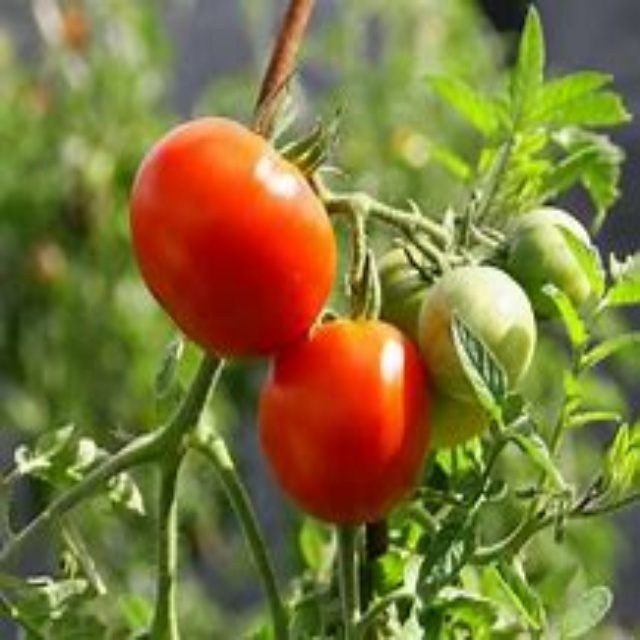tomato: (120, 122, 359, 370), (263, 323, 425, 527), (391, 260, 535, 444), (498, 205, 591, 320)
